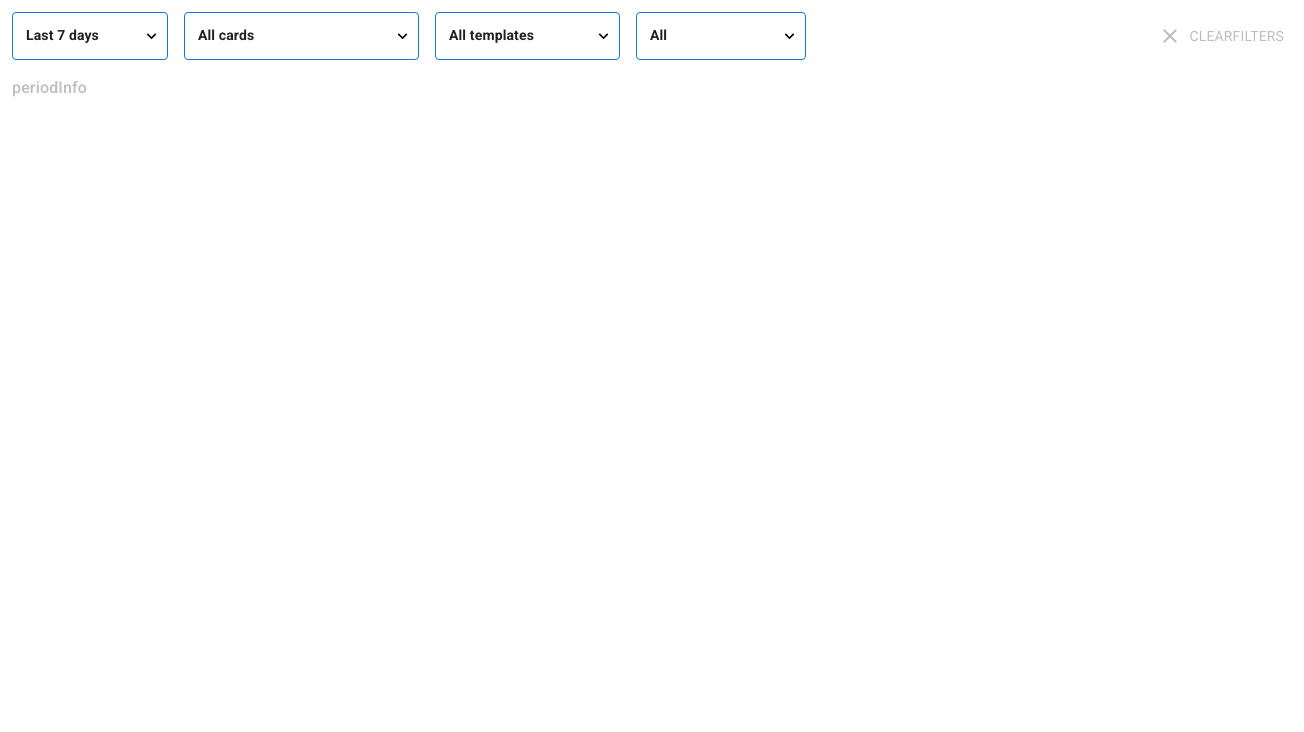
it: TransferFilters › allows "menu extender" to close select menu
This screenshot has width=1304, height=732.
Press the mouse on the dropdown labelled "Last 7 days": (62, 34) [26, 26, 99, 42]
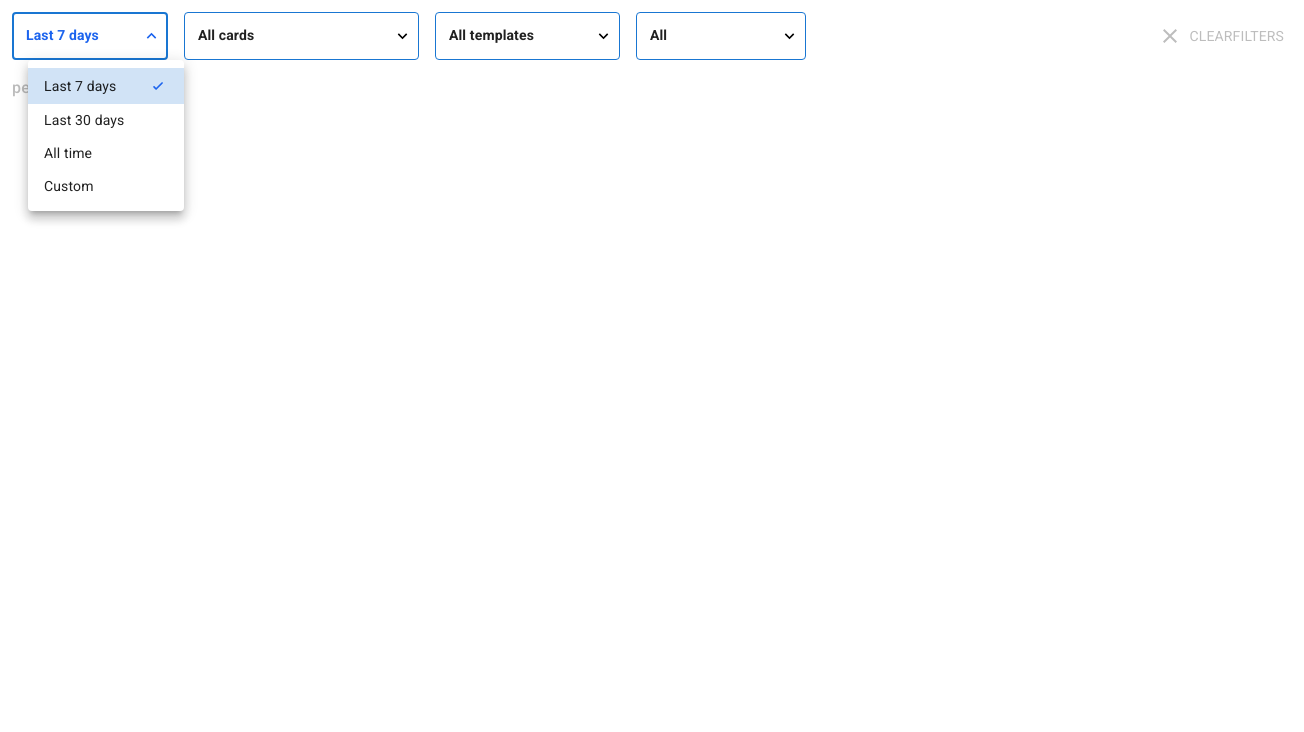
Click the option "Custom": (69, 186) [44, 178, 94, 194]
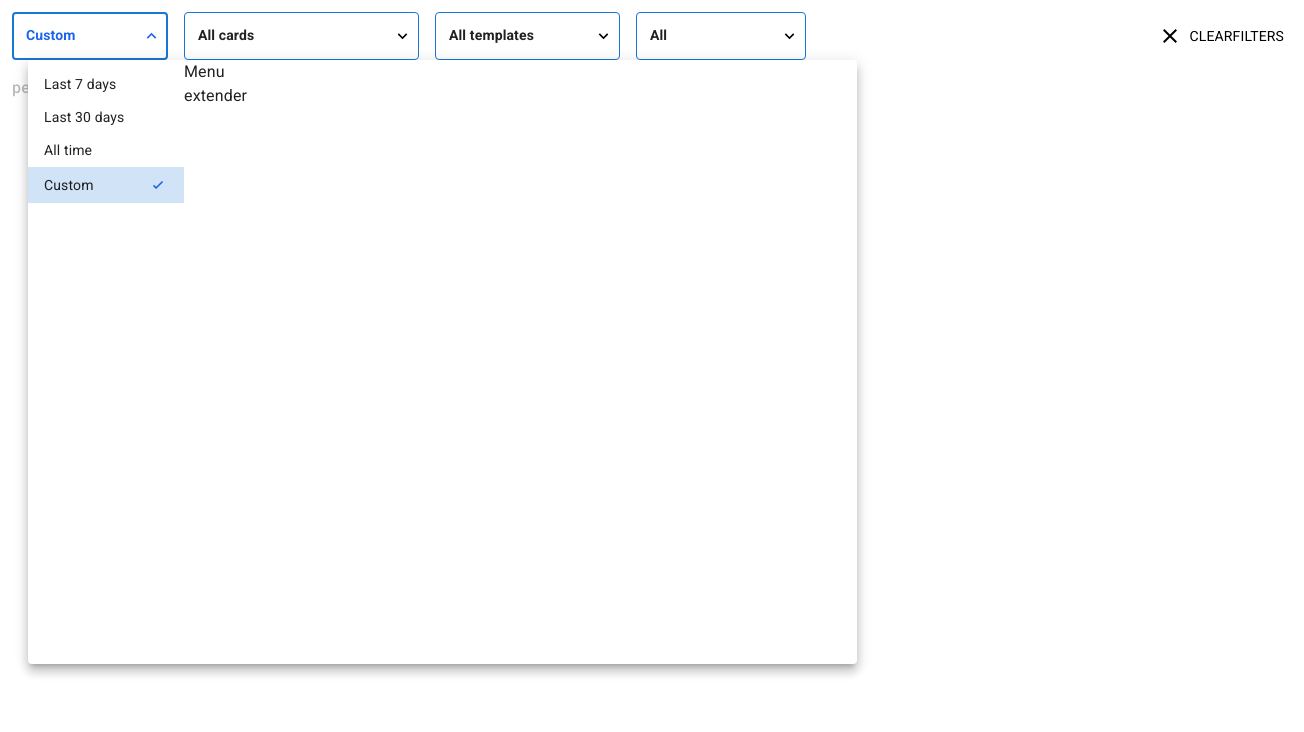
Expected: the text "Menu extender" is shown
Click the option with test id "menu-extender": (216, 84) [184, 62, 247, 105]
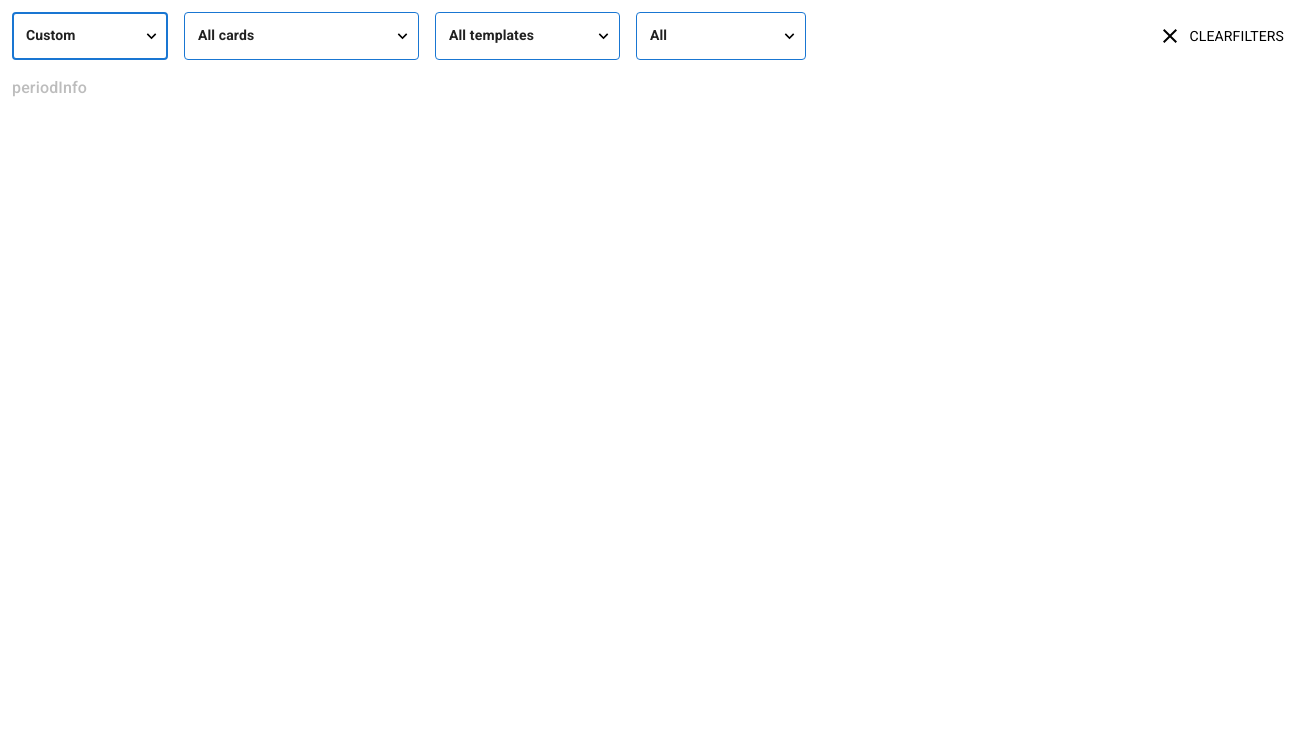
Expected: the text with test id "menu-extender" is gone
